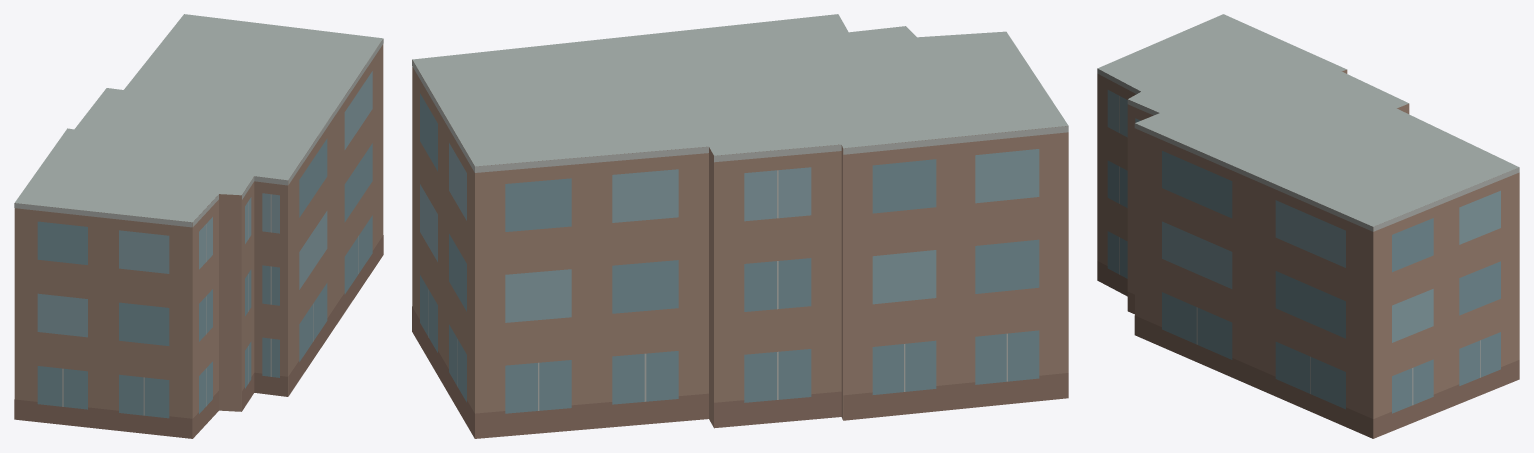
The model's file is survey-upis-32513071.glb.
3 renders of one model, left to right at view 1: azimuth 30°, elevation 25°; view 2: azimuth 150°, elevation 25°; view 3: azimuth 270°, elevation 25°, orthographic. The views are drawn at different scales.
Visible parts, largest first — view 1: survey-upis-32513071.tmp; view 2: survey-upis-32513071.tmp; view 3: survey-upis-32513071.tmp.
Part boxes in pixels (x1=…): survey-upis-32513071.tmp: x1=14, y1=14, x2=383, y2=438; survey-upis-32513071.tmp: x1=412, y1=14, x2=1068, y2=438; survey-upis-32513071.tmp: x1=1097, y1=14, x2=1519, y2=438.
Bounding box in the file's own units: 21.96 × 10.2 × 18.41.
